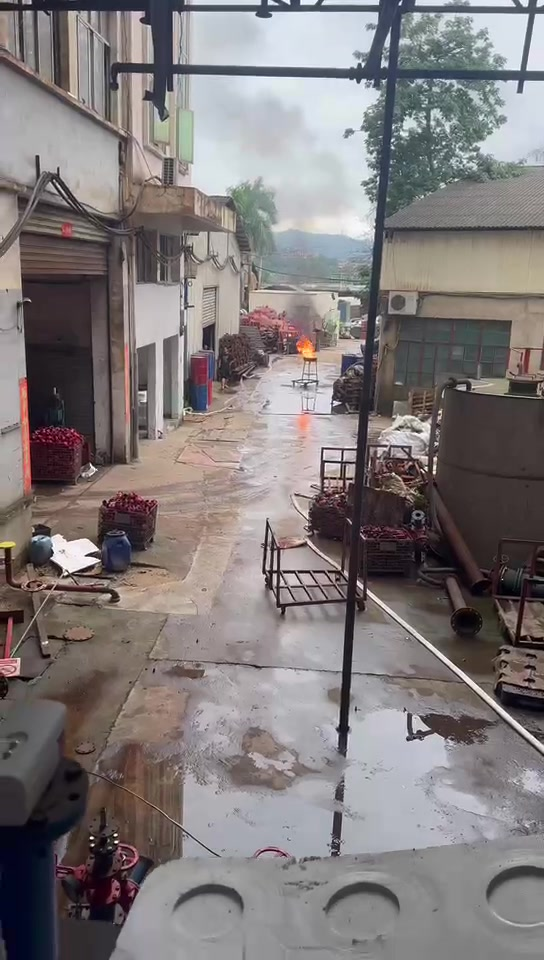fire: (295, 333, 317, 356)
